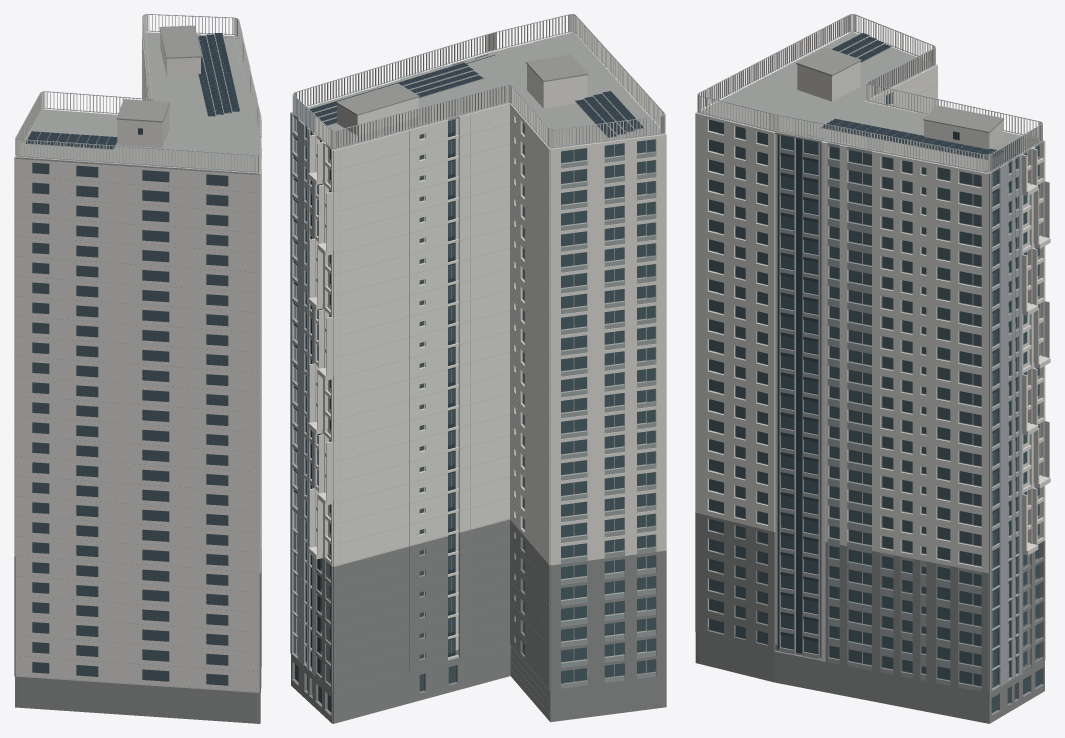
Rendered from bespoke-maple-xi-214.glb.
3 renders of one model, left to right at view 1: azimuth 30°, elevation 25°; view 2: azimuth 150°, elevation 25°; view 3: azimuth 270°, elevation 25°, orthographic. The views are drawn at different scales.
Parts seen in each view (by area): view 1: Maple214_SW_unverified_plain_wall, Maple214_SW_unverified_window_estimates, Maple214_214_L_roof_plate, Maple214_ground_unseen_stone_enclosure, Maple214_white_open_roof_fins, Maple214_SW_unverified_storey_seams, Maple214_long_SE_PV_cells, Maple214_roof_thin_horizontal_tie, Maple214_SW_junction_plant_taller, Maple214_SE_short_kink_white_piers001, Maple214_NE_plant_shallow_cap, Maple214_short_SW_PV_cells (+5 smaller); view 2: Maple214_NW_long_blank_core_panels001, Maple214_NW_shortarm_white_verticals001, Maple214_NW_shortarm_glass, Maple214_NW_long_blank_core_panels, Maple214_NE_inner_shortarm_blank_wall001, Maple214_214_L_roof_plate, Maple214_NW_shortarm_floor_spandrel, Maple214_white_open_roof_fins, Maple214_NW_shortarm_white_verticals, Maple214_NE_metal_reveal_edges, Maple214_ground_stone_window_piers, Maple214_NE_metal_broad_piers (+38 smaller); view 3: Maple214_SE_primary_photo_glass, Maple214_SE_primary_photo_pale_piers001, Maple214_SE_short_kink_white_piers001, Maple214_214_L_roof_plate, Maple214_SE_short_kink_glass, Maple214_ground_unseen_stone_enclosure, Maple214_SE_dark_band_individual_glass, Maple214_white_open_roof_fins, Maple214_NE_metal_broad_piers, Maple214_SE_individual_opaque_spandrels001, Maple214_SE_individual_opaque_spandrels, Maple214_SE_dark_band_recess_back (+44 smaller).
Part boxes in pixels (x1,y1,x2,y2): Maple214_SW_unverified_plain_wall: [15, 157, 259, 692]; Maple214_SW_unverified_window_estimates: [32, 162, 228, 685]; Maple214_214_L_roof_plate: [15, 32, 260, 175]; Maple214_ground_unseen_stone_enclosure: [15, 676, 260, 723]; Maple214_white_open_roof_fins: [17, 15, 261, 172]; Maple214_SW_unverified_storey_seams: [15, 176, 259, 692]; Maple214_long_SE_PV_cells: [198, 33, 239, 115]; Maple214_roof_thin_horizontal_tie: [16, 14, 260, 172]; Maple214_SW_junction_plant_taller: [117, 106, 169, 147]; Maple214_SE_short_kink_white_piers001: [259, 144, 261, 573]; Maple214_NE_plant_shallow_cap: [159, 25, 201, 58]; Maple214_short_SW_PV_cells: [26, 131, 117, 148]; Maple214_NW_long_blank_core_panels001: [333, 103, 509, 566]; Maple214_NW_shortarm_white_verticals001: [550, 134, 666, 565]; Maple214_NW_shortarm_glass: [561, 139, 655, 683]; Maple214_NW_long_blank_core_panels: [333, 519, 509, 691]; Maple214_NE_inner_shortarm_blank_wall001: [510, 103, 550, 565]; Maple214_214_L_roof_plate: [292, 32, 665, 150]; Maple214_NW_shortarm_floor_spandrel: [561, 152, 655, 688]; Maple214_white_open_roof_fins: [296, 15, 663, 148]; Maple214_NW_shortarm_white_verticals: [550, 550, 666, 690]; Maple214_NE_metal_reveal_edges: [291, 114, 312, 673]; Maple214_ground_stone_window_piers: [291, 644, 510, 723]; Maple214_NE_metal_broad_piers: [290, 112, 315, 675]; Maple214_SE_primary_photo_glass: [829, 146, 981, 685]; Maple214_SE_primary_photo_pale_piers001: [825, 142, 958, 567]; Maple214_SE_short_kink_white_piers001: [695, 113, 775, 531]; Maple214_214_L_roof_plate: [696, 32, 1043, 173]; Maple214_SE_short_kink_glass: [709, 119, 767, 644]; Maple214_ground_unseen_stone_enclosure: [695, 626, 988, 723]; Maple214_SE_dark_band_individual_glass: [781, 135, 818, 653]; Maple214_white_open_roof_fins: [699, 15, 1041, 171]; Maple214_NE_metal_broad_piers: [988, 154, 1022, 692]; Maple214_SE_individual_opaque_spandrels001: [880, 168, 981, 571]; Maple214_SE_individual_opaque_spandrels: [828, 158, 981, 691]; Maple214_SE_dark_band_recess_back: [777, 131, 821, 657].
Size of the model in its own units: 47.56 by 89.6 by 49.99.
